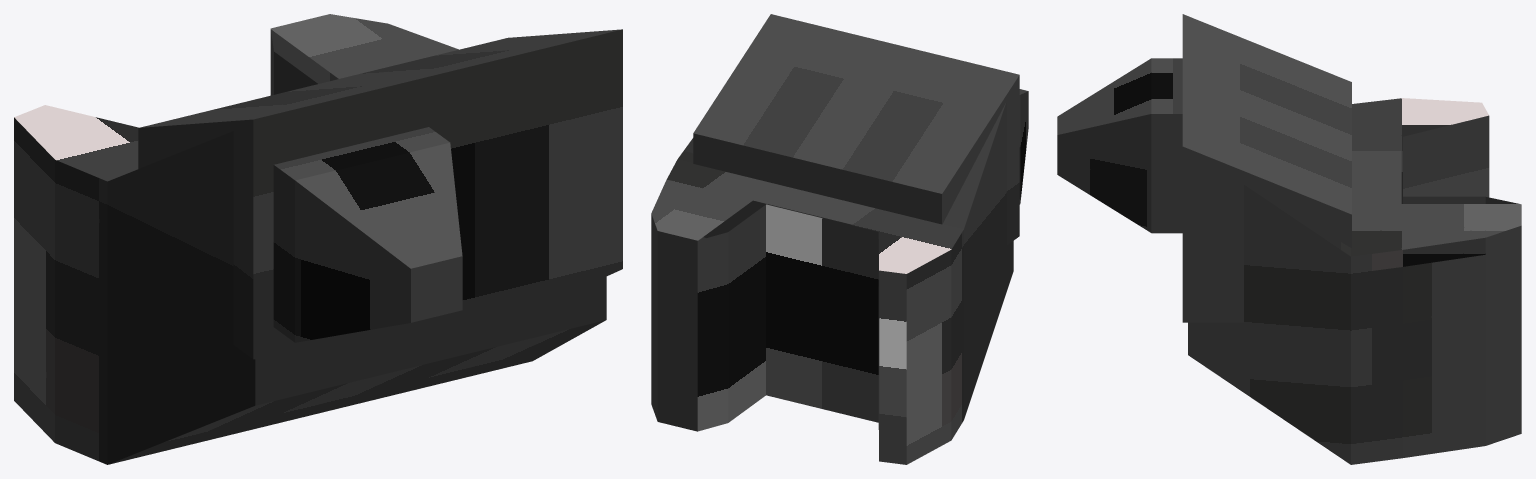
The model's file is body.obj.
3 views of the same model, side by side, from view 1: azimuth 30°, elevation 25°; view 2: azimuth 150°, elevation 25°; view 3: azimuth 270°, elevation 25° (orthographic). The views are drawn at different scales.
Parts seen in each view (by area): view 1: 钩体_f61a0c44-d7ee-8ce1-d8b5-9a295fa28971, 半自动车钩_63a3cd7c-34e2-bc75-221c-d4ca680ee123, 车钩钩体_b3c9ce77-9921-68c7-38e2-7ab1e3f3baa4; view 2: 钩体_f61a0c44-d7ee-8ce1-d8b5-9a295fa28971, 半自动车钩_63a3cd7c-34e2-bc75-221c-d4ca680ee123, 车钩钩体_b3c9ce77-9921-68c7-38e2-7ab1e3f3baa4; view 3: 钩体_f61a0c44-d7ee-8ce1-d8b5-9a295fa28971, 半自动车钩_63a3cd7c-34e2-bc75-221c-d4ca680ee123, 车钩钩体_b3c9ce77-9921-68c7-38e2-7ab1e3f3baa4.
Part boxes in pixels (x1,y1,x2,y2): 钩体_f61a0c44-d7ee-8ce1-d8b5-9a295fa28971: [14, 14, 606, 464]; 半自动车钩_63a3cd7c-34e2-bc75-221c-d4ca680ee123: [138, 29, 622, 359]; 车钩钩体_b3c9ce77-9921-68c7-38e2-7ab1e3f3baa4: [273, 127, 462, 342]; 钩体_f61a0c44-d7ee-8ce1-d8b5-9a295fa28971: [651, 102, 1013, 464]; 半自动车钩_63a3cd7c-34e2-bc75-221c-d4ca680ee123: [693, 14, 1019, 245]; 车钩钩体_b3c9ce77-9921-68c7-38e2-7ab1e3f3baa4: [1019, 89, 1028, 204]; 钩体_f61a0c44-d7ee-8ce1-d8b5-9a295fa28971: [1188, 98, 1521, 464]; 半自动车钩_63a3cd7c-34e2-bc75-221c-d4ca680ee123: [1182, 14, 1351, 322]; 车钩钩体_b3c9ce77-9921-68c7-38e2-7ab1e3f3baa4: [1057, 58, 1182, 233].
Bounding box in the file's own units: 0.374 × 0.3407 × 0.4627.
